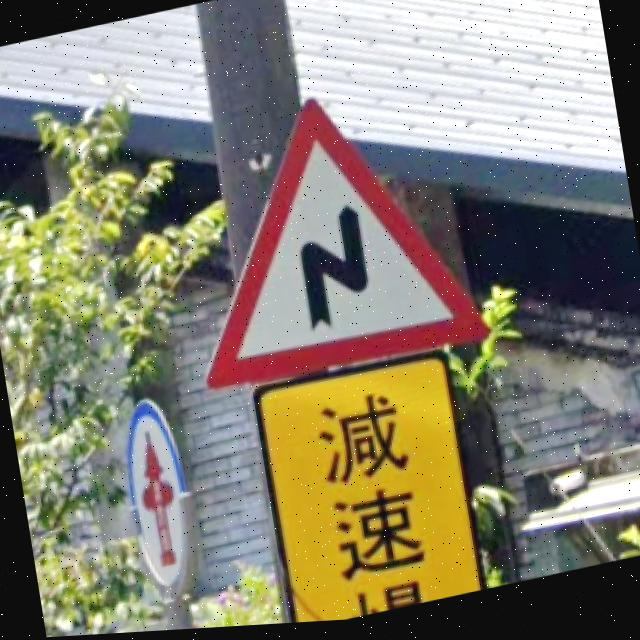doublebendright: (206, 104, 491, 399)
